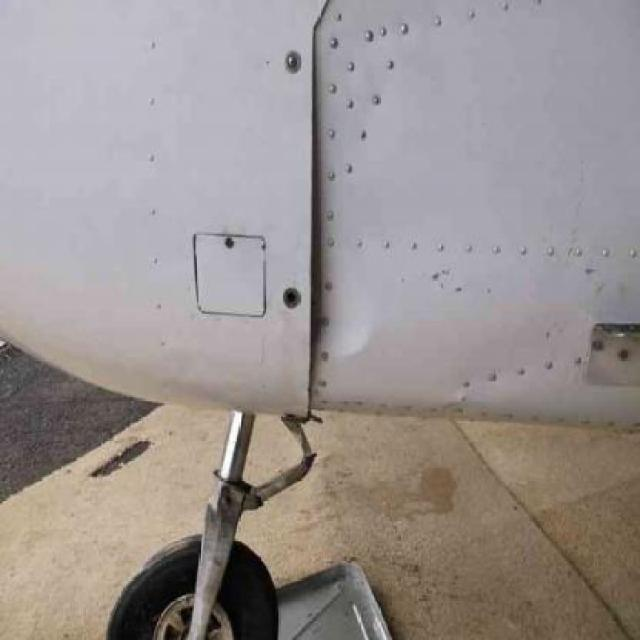crack: (297, 97, 330, 394)
dent: (334, 309, 378, 367)
